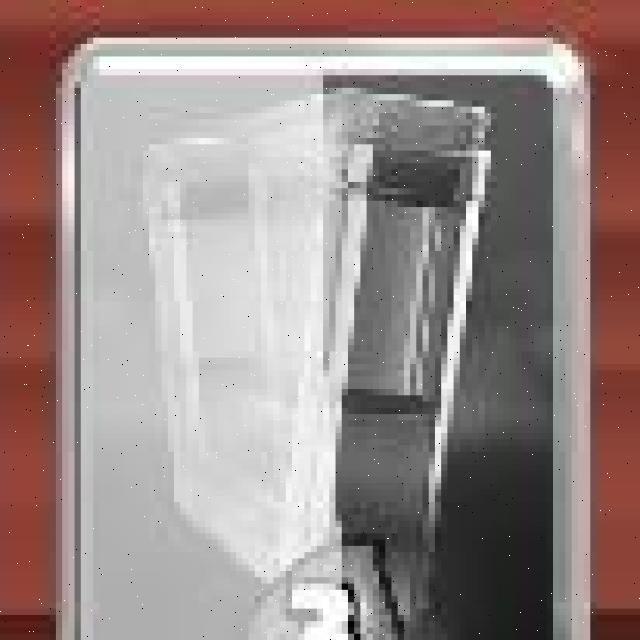Clone_Spell: (47, 32, 600, 640)
